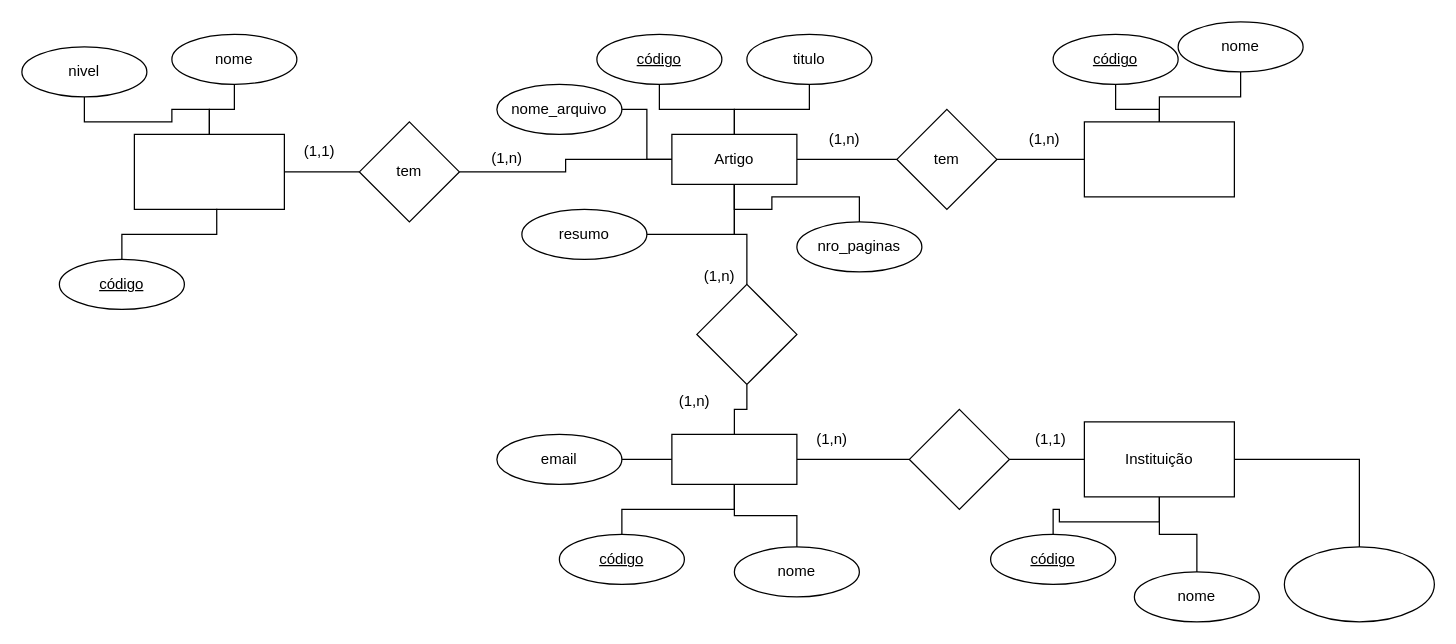
This 1456x644 diagram has some shape labels left out. The centre of each missing label's shape, as x and y in pixels:
"Autor" goes at point 734,458.
"endereço" goes at point 1358,584.
"escreve" goes at point 746,333.
"Palavra-Chave" goes at point 1158,159.
"Periodico" goes at point 208,171.
"pertence" goes at point 958,458.
